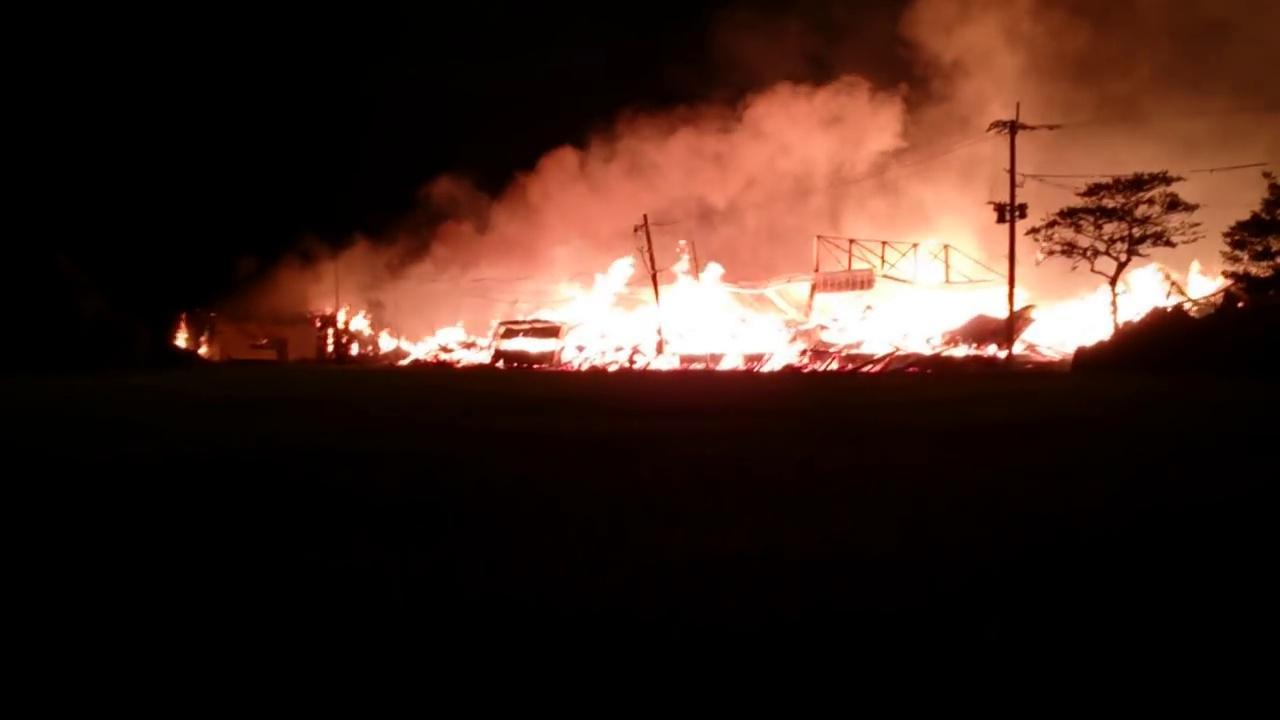Fire: (323, 239, 1229, 364), (174, 311, 218, 356)
